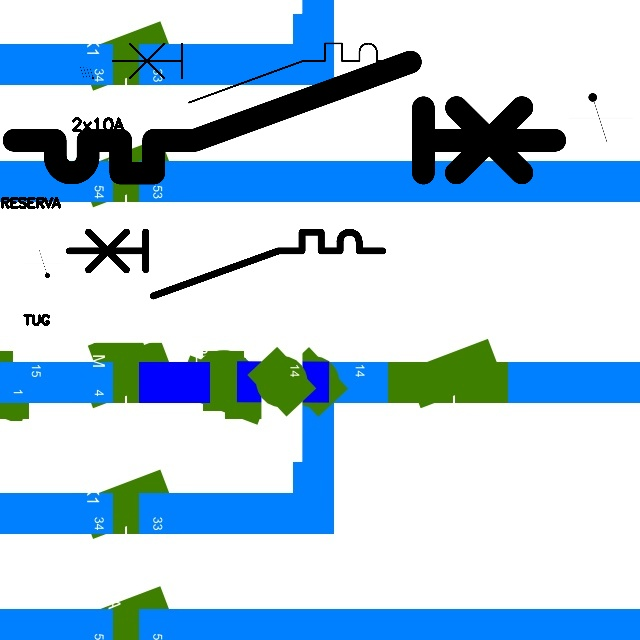interruptor_termomagnetico: (0, 48, 569, 187), (61, 224, 390, 304), (105, 36, 406, 109)
